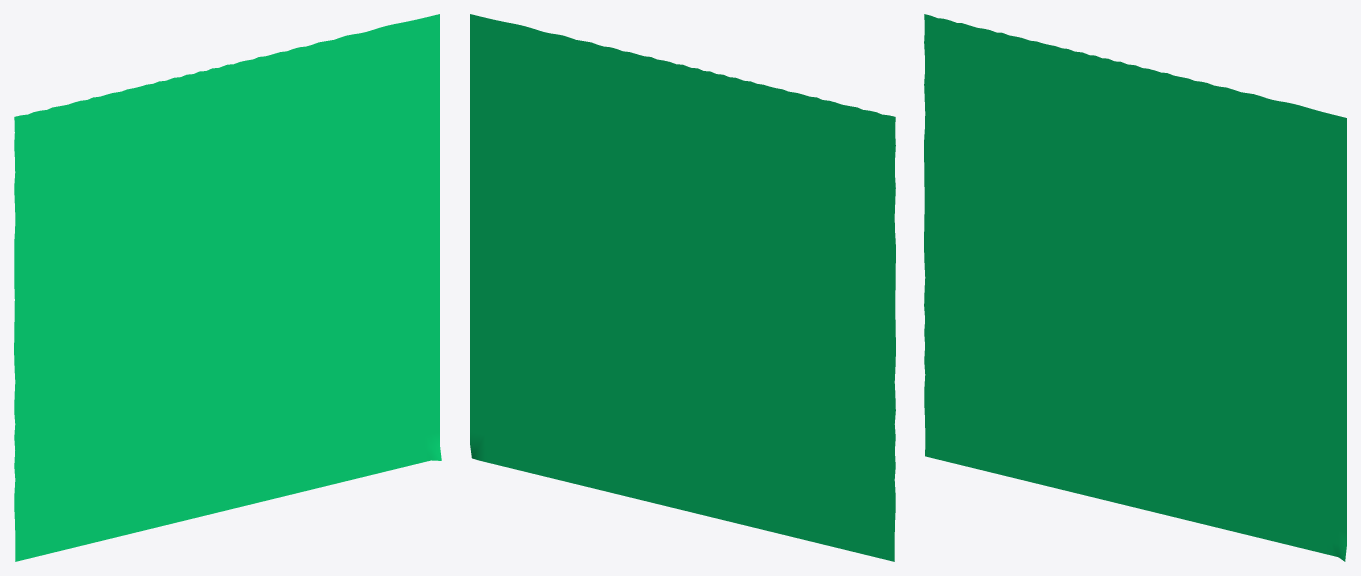
The model's file is tensor_network_spacetime_solid_fallback_1766919974582.glb.
3 views of the same model, side by side, from view 1: azimuth 30°, elevation 25°; view 2: azimuth 150°, elevation 25°; view 3: azimuth 330°, elevation 25° (orthographic).
Visible parts, largest first — view 1: MathShape; view 2: MathShape; view 3: MathShape.
Boxes of the visible parts, x1,y1,x2,y2 form: MathShape: [14, 14, 441, 561]; MathShape: [470, 14, 895, 561]; MathShape: [924, 14, 1346, 561].
Size of the model in its own units: 200 by 201 by 1.5.
